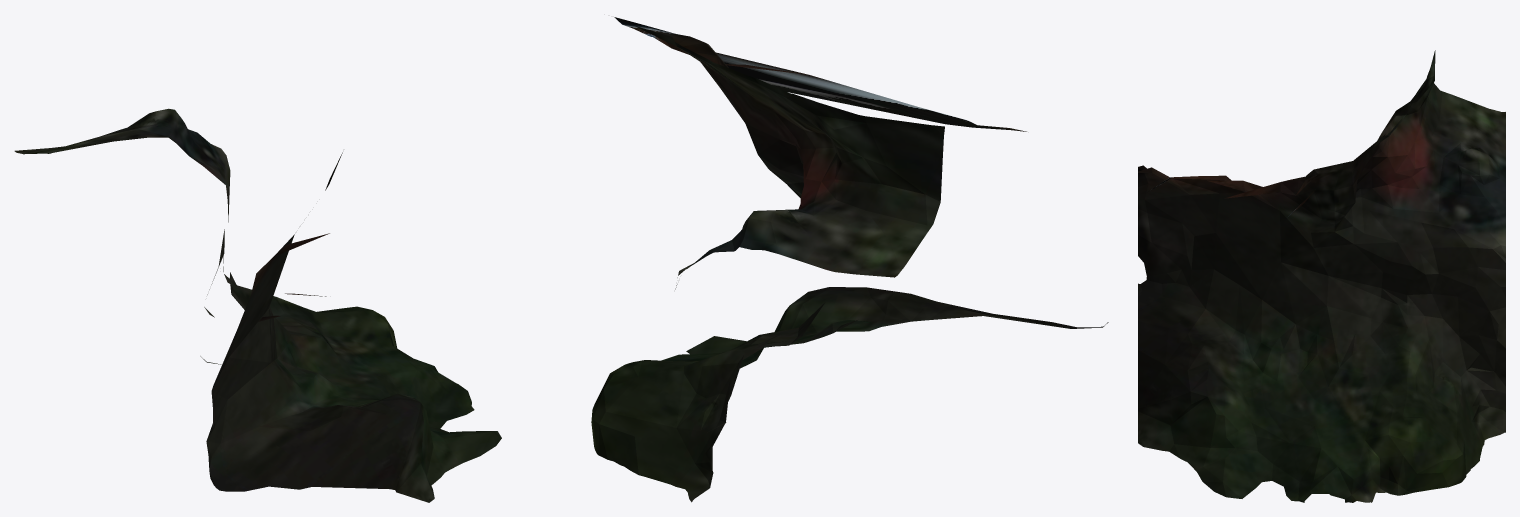
3 views of the same model, side by side, from view 1: azimuth 30°, elevation 25°; view 2: azimuth 150°, elevation 25°; view 3: azimuth 270°, elevation 25° (orthographic). The views are drawn at different scales.
Bounding box in the file's own units: 0.8374 × 0.8374 × 0.8374.
5 materials, 5 textured.
